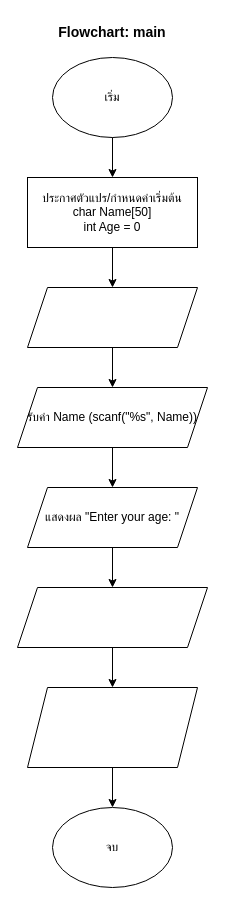
This 225x905 diagram has some shape labels left out. The shapes that lost their labels are listed below. From the top down, each one's centre as x and y in pixels, then its label:
[112,317]: แสดงผล "Enter your name: "
[112,617]: รับค่า Age (scanf("%d", &Age))
[112,727]: แสดงผล * ข้อความคั่น * "Hello " + Name * "Age = " + Age
